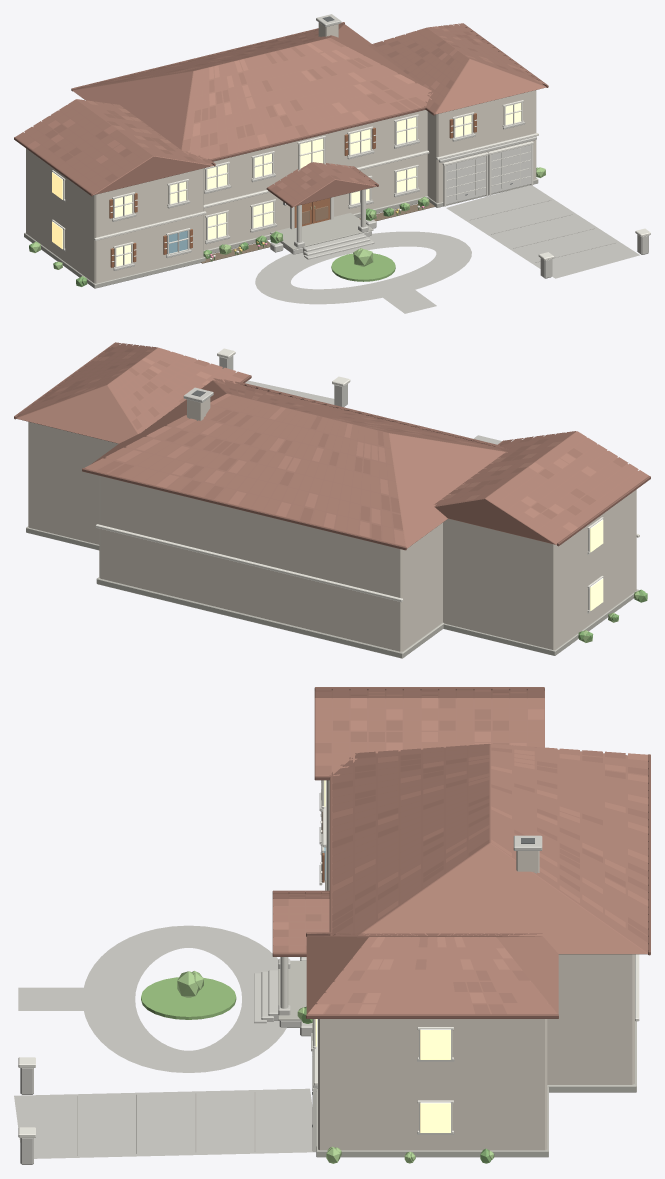
Rendered from mansion_01.fbx.
The picture shows the model from 3 angles, top to bottom: view 1: azimuth 30°, elevation 25°; view 2: azimuth 150°, elevation 25°; view 3: azimuth 270°, elevation 25°; orthographic projection. The views are drawn at different scales.
Parts seen in each view (by area): view 1: MainGrandRoof_RoofTiles, MainGrandRoof, EastWestWingBody, MansionMainBody, GarageDrivewayMain, ResidentialWingRoof_RoofTiles, CircularDropoffLane, GarageRoof_RoofTiles, GarageRoof, GarageBody, ResidentialWingRoof, GrandEntrancePorticoRoof_RoofTiles (+12 smaller); view 2: MansionMainBody, MainGrandRoof_RoofTiles, EastWestWingBody, MainGrandRoof, ResidentialWingRoof_RoofTiles, GarageRoof_RoofTiles, GarageBody, GarageRoof, ResidentialWingRoof, MainStoneFoundation, MainGrandRoof_Fascia_Back, FacadeCornice_Rear_1 (+4 smaller); view 3: MainGrandRoof_RoofTiles, MainGrandRoof, GarageBody, GarageDrivewayMain, GarageRoof_RoofTiles, CircularDropoffLane, ResidentialWingRoof_RoofTiles, MansionMainBody, GarageRoof, ResidentialWingRoof, GrandEntrancePorticoRoof_RoofTiles, RoundaboutGardenIsland (+8 smaller).
Boxes of the visible parts, bbox=[...] form: MainGrandRoof_RoofTiles: bbox=[74, 22, 432, 159]; MainGrandRoof: bbox=[73, 24, 430, 159]; EastWestWingBody: bbox=[26, 148, 203, 283]; MansionMainBody: bbox=[203, 110, 427, 250]; GarageDrivewayMain: bbox=[446, 185, 639, 278]; ResidentialWingRoof_RoofTiles: bbox=[15, 99, 213, 193]; CircularDropoffLane: bbox=[255, 231, 471, 304]; GarageRoof_RoofTiles: bbox=[368, 23, 546, 112]; GarageRoof: bbox=[372, 25, 546, 114]; GarageBody: bbox=[427, 90, 536, 202]; ResidentialWingRoof: bbox=[21, 99, 213, 195]; GrandEntrancePorticoRoof_RoofTiles: bbox=[268, 162, 376, 204]; MansionMainBody: bbox=[99, 476, 442, 651]; MainGrandRoof_RoofTiles: bbox=[85, 378, 508, 545]; EastWestWingBody: bbox=[443, 489, 636, 649]; MainGrandRoof: bbox=[85, 380, 507, 548]; ResidentialWingRoof_RoofTiles: bbox=[434, 431, 648, 542]; GarageRoof_RoofTiles: bbox=[16, 342, 249, 433]; GarageBody: bbox=[28, 422, 118, 544]; GarageRoof: bbox=[16, 345, 243, 443]; ResidentialWingRoof: bbox=[434, 431, 642, 544]; MainStoneFoundation: bbox=[96, 577, 443, 658]; MainGrandRoof_Fascia_Back: bbox=[82, 468, 406, 550]; FacadeCornice_Rear_1: bbox=[95, 524, 403, 602]; MainGrandRoof_RoofTiles: bbox=[332, 743, 648, 949]; MainGrandRoof: bbox=[333, 744, 647, 954]; GarageBody: bbox=[318, 1019, 547, 1150]; GarageDrivewayMain: bbox=[14, 1088, 315, 1158]; GarageRoof_RoofTiles: bbox=[307, 933, 557, 1014]; CircularDropoffLane: bbox=[84, 925, 286, 1072]; ResidentialWingRoof_RoofTiles: bbox=[315, 687, 544, 775]; MansionMainBody: bbox=[547, 954, 634, 1084]; GarageRoof: bbox=[306, 935, 558, 1014]; ResidentialWingRoof: bbox=[314, 690, 544, 775]; GrandEntrancePorticoRoof_RoofTiles: bbox=[273, 891, 329, 952]; RoundaboutGardenIsland: bbox=[141, 977, 236, 1019].
Bounding box in the file's own units: 3102 × 932 × 2472.
